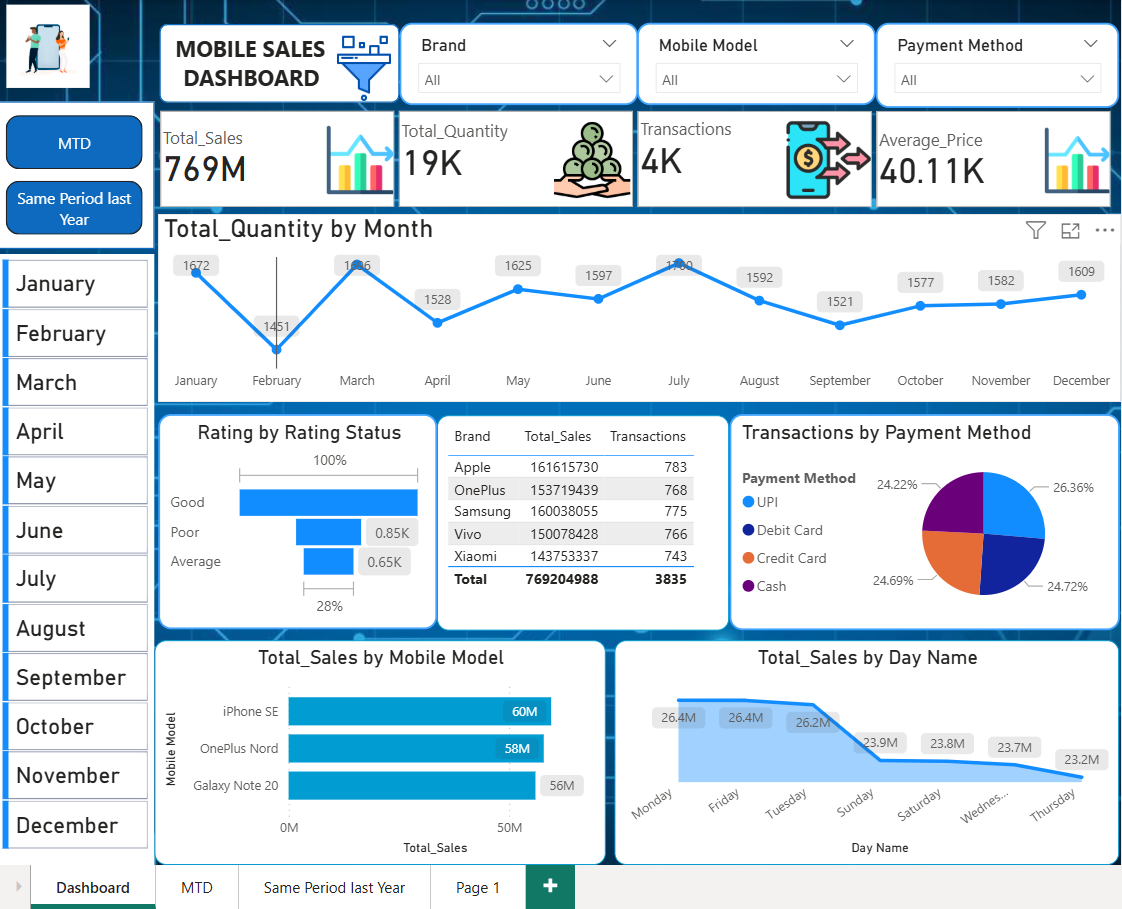

The dashboard page shown, as its layout file describes it:
{"tool":"powerbi","page":{"name":"Dashboard","canvas":[960,740],"ordinal":0},"visuals":[{"type":"shape","box":[138.9,21.4,205.1,67.3],"z":0},{"type":"shape","box":[0,87.6,134.6,126],"z":1000},{"type":"image","box":[0,0,86.5,81.2],"z":2000},{"type":"advancedSlicerVisual","fields":{"Values":["Custom_Calendar.Date.Variation.Date Hierarchy.Month"]},"box":[0,217.9,134.6,522.3],"z":3000},{"type":"cardVisual","fields":{"Data":["Sales_Data.Total_Sales","Sales_Data.Total_Quantity","Sales_Data.Transactions","Sales_Data.Average_Price"]},"box":[134.6,90.8,824.6,92.9],"z":4000},{"type":"slicer","fields":{"Values":["Sales_Data.Mobile Model"]},"box":[546.9,20.3,204,70.5],"z":5000},{"type":"slicer","fields":{"Values":["Sales_Data.Brand"]},"box":[343.9,20.3,204,70.5],"z":6000},{"type":"slicer","fields":{"Values":["Sales_Data.Payment Method"]},"box":[750.9,20.3,208.3,72.6],"z":7000},{"type":"image","box":[272.4,25.6,82.2,67.3],"z":8000},{"type":"textbox","box":[147.4,24.6,139.9,60.9],"z":9000},{"type":"lineChart","fields":{"Y":["Sales_Data.Total_Quantity"],"Category":["Custom_Calendar.Date.Variation.Date Hierarchy.Month"]},"box":[137.8,183.7,822.5,160.2],"z":10000},{"type":"funnel","title":"Rating by Rating Status","fields":{"Y":["CountNonNull(Sales_Data.Customer Age)"],"Category":["Sales_Data.Rating Status"]},"box":[137.8,354.6,238.2,183.7],"z":11000},{"type":"pieChart","fields":{"Y":["Sales_Data.Transactions"],"Category":["Sales_Data.Payment Method"]},"box":[625.9,354.6,333.3,184.8],"z":12000},{"type":"areaChart","fields":{"Y":["Sales_Data.Total_Sales"],"Category":["Custom_Calendar.Day Name"]},"box":[527.7,548,431.5,192.3],"z":13000},{"type":"clusteredBarChart","fields":{"Y":["Sales_Data.Total_Sales"],"Category":["Sales_Data.Mobile Model"]},"box":[134.6,548,385.6,192.3],"z":14000},{"type":"tableEx","fields":{"Values":["Sales_Data.Brand","Sales_Data.Total_Sales","Sales_Data.Transactions"]},"box":[376,355.7,249.9,183.7],"z":15000},{"type":"pageNavigator","box":[7.5,99.3,117.5,102.5],"z":16000}]}

Visuals, with their boxes on the page's 960x740 design canvas (x1, y1, x2, y2). These are canvas units, not pixel positions in the 1122x909 screenshot, which may show the page scaled, cropped or inside an application window:
shape: (139, 21, 344, 89)
shape: (0, 88, 135, 214)
image: (0, 0, 86, 81)
advancedSlicerVisual - Custom_Calendar.Date.Variation.Date Hierarchy.Month: (0, 218, 135, 740)
cardVisual - Sales_Data.Total_Sales x Sales_Data.Total_Quantity: (135, 91, 959, 184)
slicer - Sales_Data.Mobile Model: (547, 20, 751, 91)
slicer - Sales_Data.Brand: (344, 20, 548, 91)
slicer - Sales_Data.Payment Method: (751, 20, 959, 93)
image: (272, 26, 355, 93)
textbox: (147, 25, 287, 86)
lineChart - Sales_Data.Total_Quantity x Custom_Calendar.Date.Variation.Date Hierarchy.Month: (138, 184, 960, 344)
"Rating by Rating Status" funnel: (138, 355, 376, 538)
pieChart - Sales_Data.Transactions x Sales_Data.Payment Method: (626, 355, 959, 539)
areaChart - Sales_Data.Total_Sales x Custom_Calendar.Day Name: (528, 548, 959, 740)
clusteredBarChart - Sales_Data.Total_Sales x Sales_Data.Mobile Model: (135, 548, 520, 740)
tableEx - Sales_Data.Brand x Sales_Data.Total_Sales: (376, 356, 626, 539)
pageNavigator: (8, 99, 125, 202)
